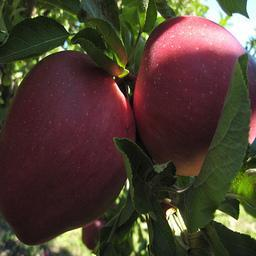apple: (1, 51, 135, 244), (135, 15, 256, 189)
